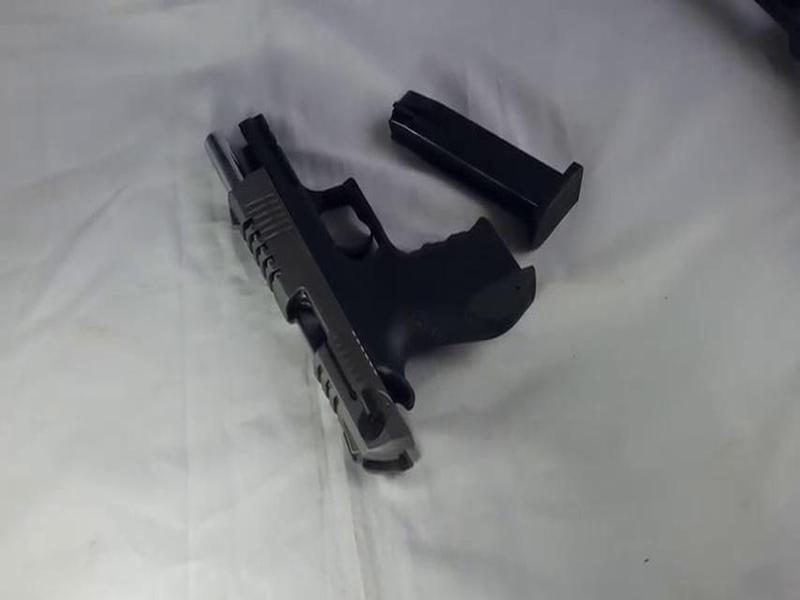Pistola: (201, 98, 563, 486)
